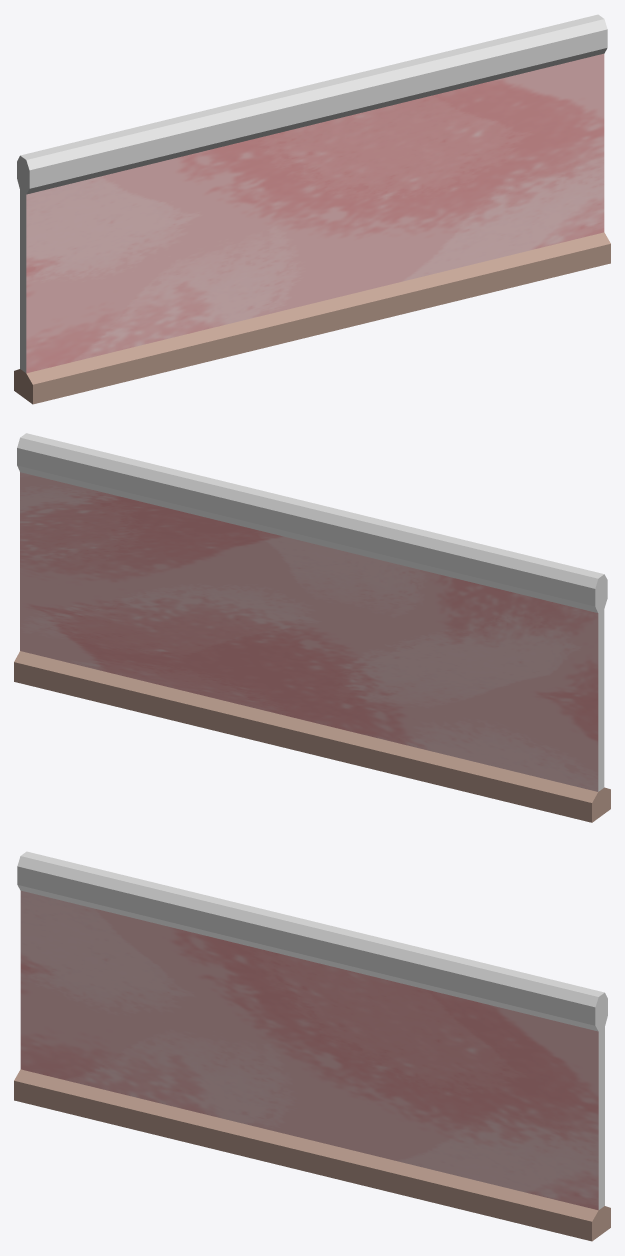
File: indoor_wall.fbx
3 renders of one model, top to bottom at view 1: azimuth 30°, elevation 25°; view 2: azimuth 150°, elevation 25°; view 3: azimuth 330°, elevation 25°, orthographic.
Visible parts, largest first — view 1: pCube2; view 2: pCube2; view 3: pCube2.
Part boxes in pixels (box(x1,y1,x2,y2)): pCube2: box(14, 14, 610, 404); pCube2: box(14, 433, 610, 822); pCube2: box(14, 851, 610, 1241).
Size of the model in its own units: 9.87 by 3.91 by 0.5574.
3 materials, 1 textured.
